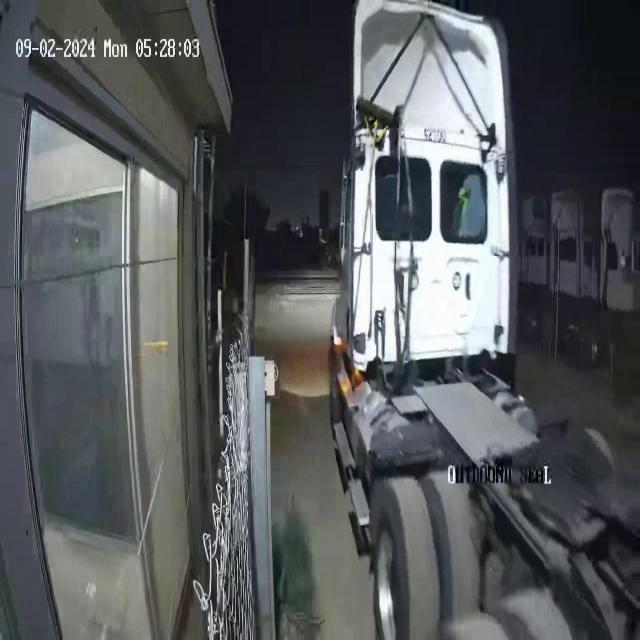TRUCK_OUT: (326, 3, 637, 640)
